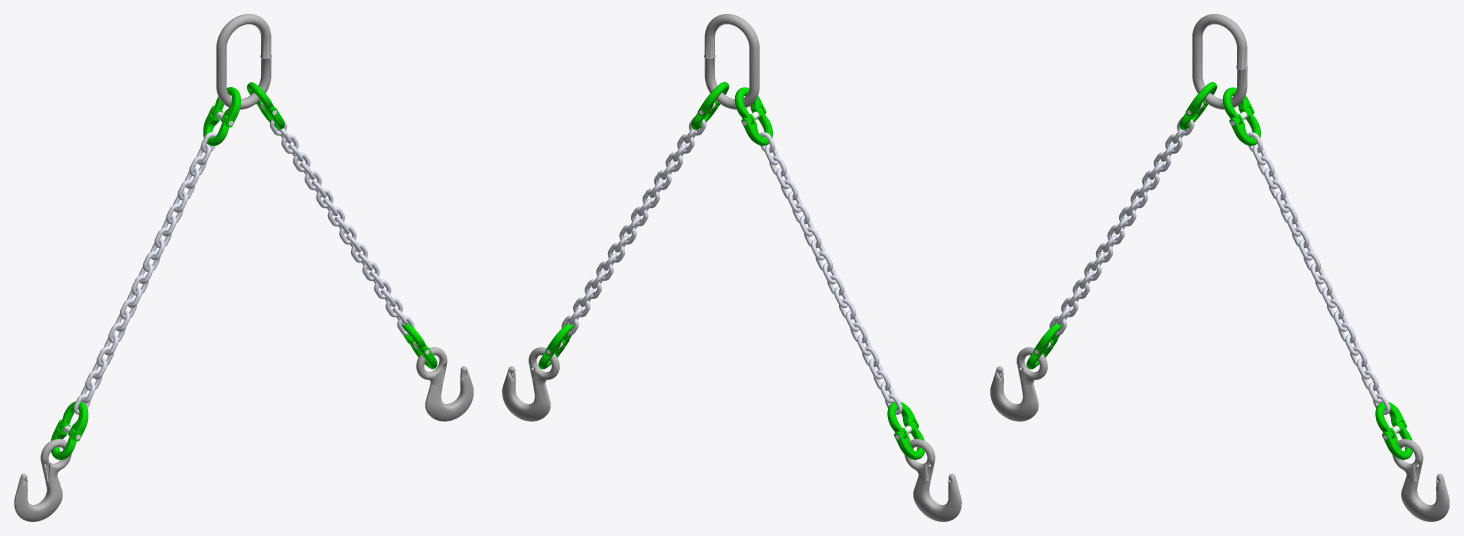
The model's file is twolegoptimized.glb.
3 renders of one model, left to right at view 1: azimuth 30°, elevation 25°; view 2: azimuth 150°, elevation 25°; view 3: azimuth 330°, elevation 25°, orthographic.
Visible parts, largest first — view 1: ChainMesh, ChainMesh1, OblongMesh, HookMesh1, HookMesh, LinkMesh1 (×2), LinkMesh_1, LinkMesh; view 2: ChainMesh, ChainMesh1, OblongMesh, HookMesh1, HookMesh, LinkMesh1 (×2), LinkMesh_1, LinkMesh; view 3: ChainMesh1, ChainMesh, LinkMesh1 (×2), OblongMesh, HookMesh, HookMesh1, LinkMesh, LinkMesh_1.
Boxes of the visible parts, bbox=[...] form: ChainMesh: bbox=[73, 132, 216, 414]; ChainMesh1: bbox=[270, 117, 414, 335]; OblongMesh: bbox=[216, 14, 271, 109]; HookMesh1: bbox=[416, 347, 473, 421]; HookMesh: bbox=[14, 439, 71, 521]; LinkMesh1 (×2): bbox=[247, 82, 437, 369]; LinkMesh_1: bbox=[51, 401, 88, 459]; LinkMesh: bbox=[203, 87, 240, 145]; ChainMesh: bbox=[760, 132, 902, 414]; ChainMesh1: bbox=[561, 117, 706, 335]; OblongMesh: bbox=[704, 14, 759, 109]; HookMesh1: bbox=[502, 347, 559, 421]; HookMesh: bbox=[904, 439, 961, 521]; LinkMesh1 (×2): bbox=[538, 82, 729, 369]; LinkMesh_1: bbox=[887, 402, 924, 459]; LinkMesh: bbox=[734, 87, 772, 145]; ChainMesh1: bbox=[1248, 132, 1390, 414]; ChainMesh: bbox=[1049, 117, 1194, 335]; LinkMesh1 (×2): bbox=[1222, 87, 1412, 459]; OblongMesh: bbox=[1192, 14, 1247, 109]; HookMesh: bbox=[990, 347, 1047, 421]; HookMesh1: bbox=[1392, 439, 1449, 521]; LinkMesh: bbox=[1179, 82, 1217, 129]; LinkMesh_1: bbox=[1026, 323, 1062, 369].
Size of what is drawn, in the model's own units: 0.8146 by 0.773 by 0.0561.
Materials: 10 (4 with a texture image).
